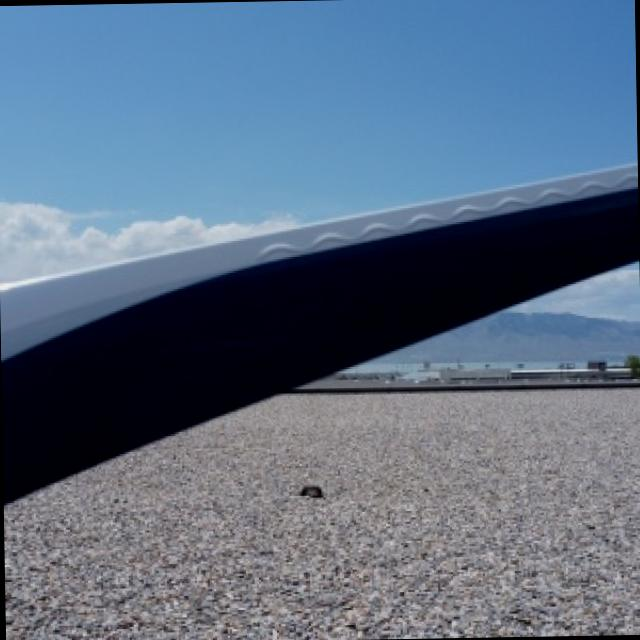healthy: (0, 161, 640, 640), (0, 161, 635, 498)
